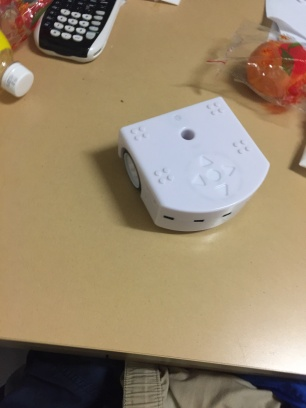thymio: (107, 91, 272, 236)
